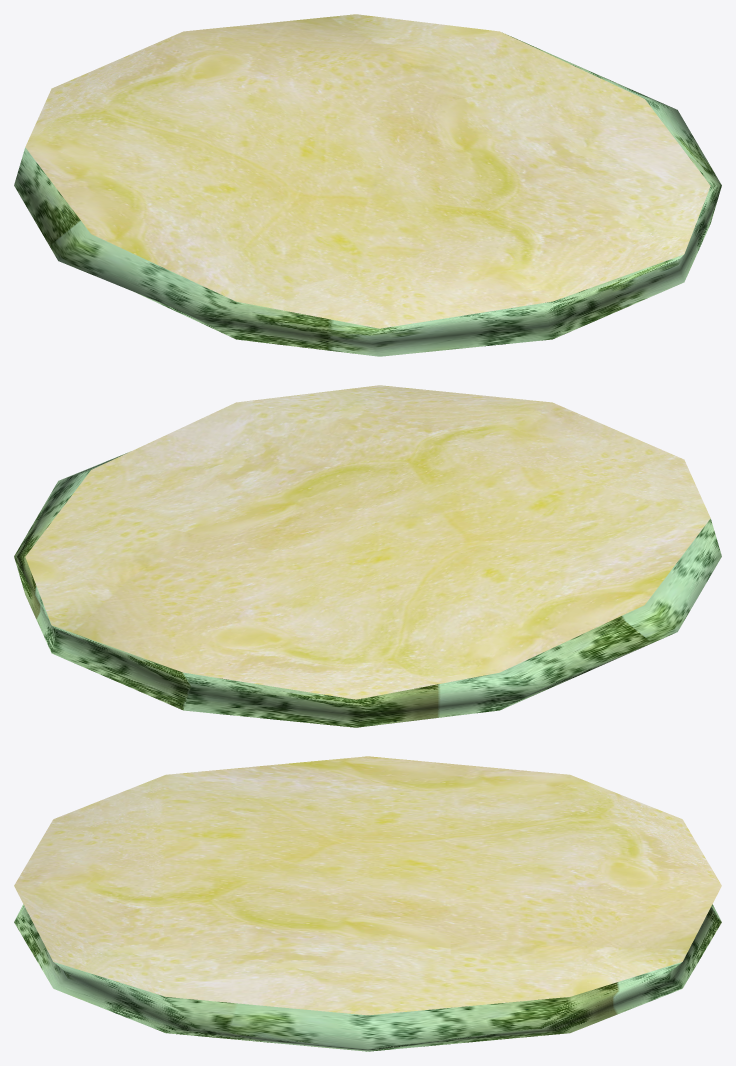
Rendered from slicezucchini.fbx.
3 renders of one model, top to bottom at view 1: azimuth 30°, elevation 25°; view 2: azimuth 150°, elevation 25°; view 3: azimuth 270°, elevation 25°, orthographic. The views are drawn at different scales.
Parts seen in each view (by area): view 1: slicezucchini; view 2: slicezucchini; view 3: slicezucchini.
Part boxes in pixels (bbox=[...]): slicezucchini: bbox=[14, 14, 721, 356]; slicezucchini: bbox=[14, 385, 721, 727]; slicezucchini: bbox=[14, 756, 721, 1051].
Size of the model in its own units: 14.45 by 1.13 by 14.92.
